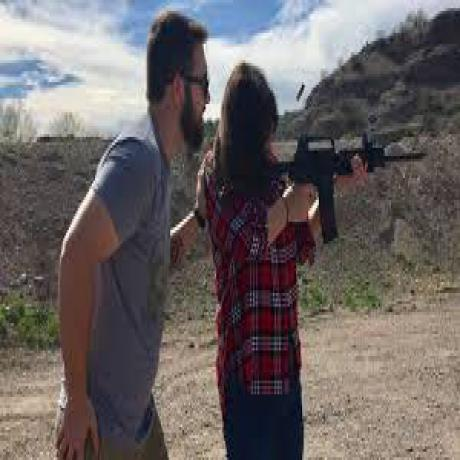Guns: (242, 134, 432, 235)
